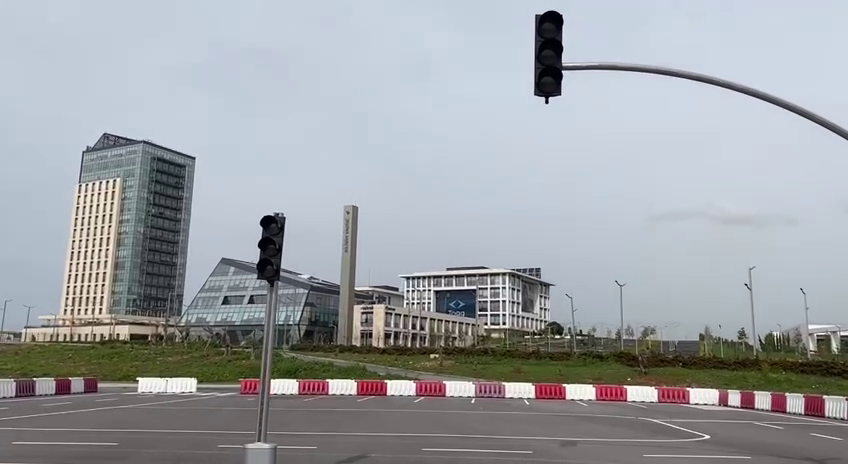trafficLight: (530, 5, 566, 106), (253, 209, 287, 286)
